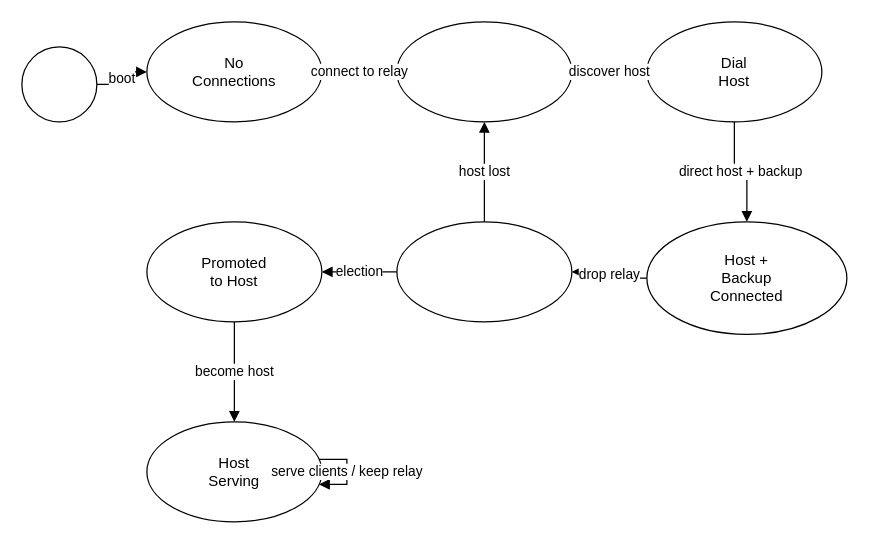
This 869x544 diagram has some shape labels left out. The shapes that lost their labels are listed below. From the top down, each one's box as (x1, y1, x2, y2) in pixels, then its label:
(21, 46, 97, 122): Start
(396, 21, 572, 122): Relay Connection
(396, 221, 572, 322): Play State
